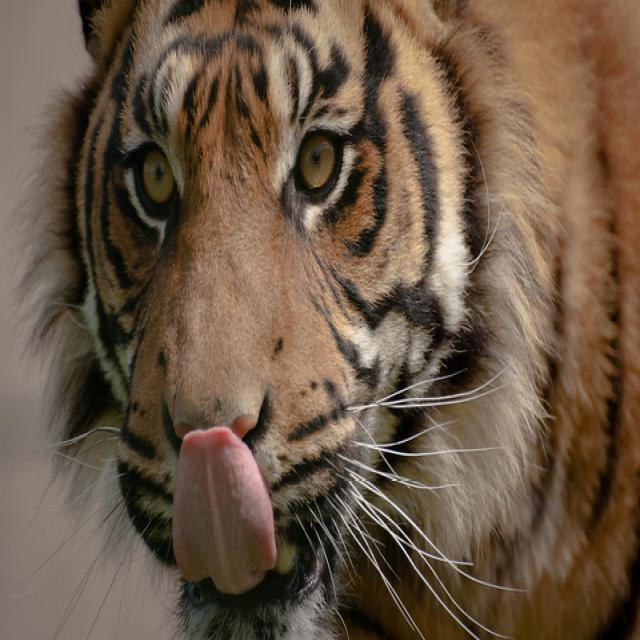Tiger: (21, 0, 636, 633)
